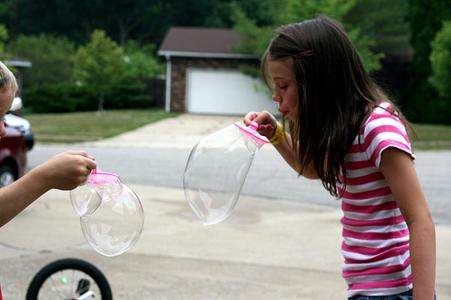person: (243, 16, 442, 300)
